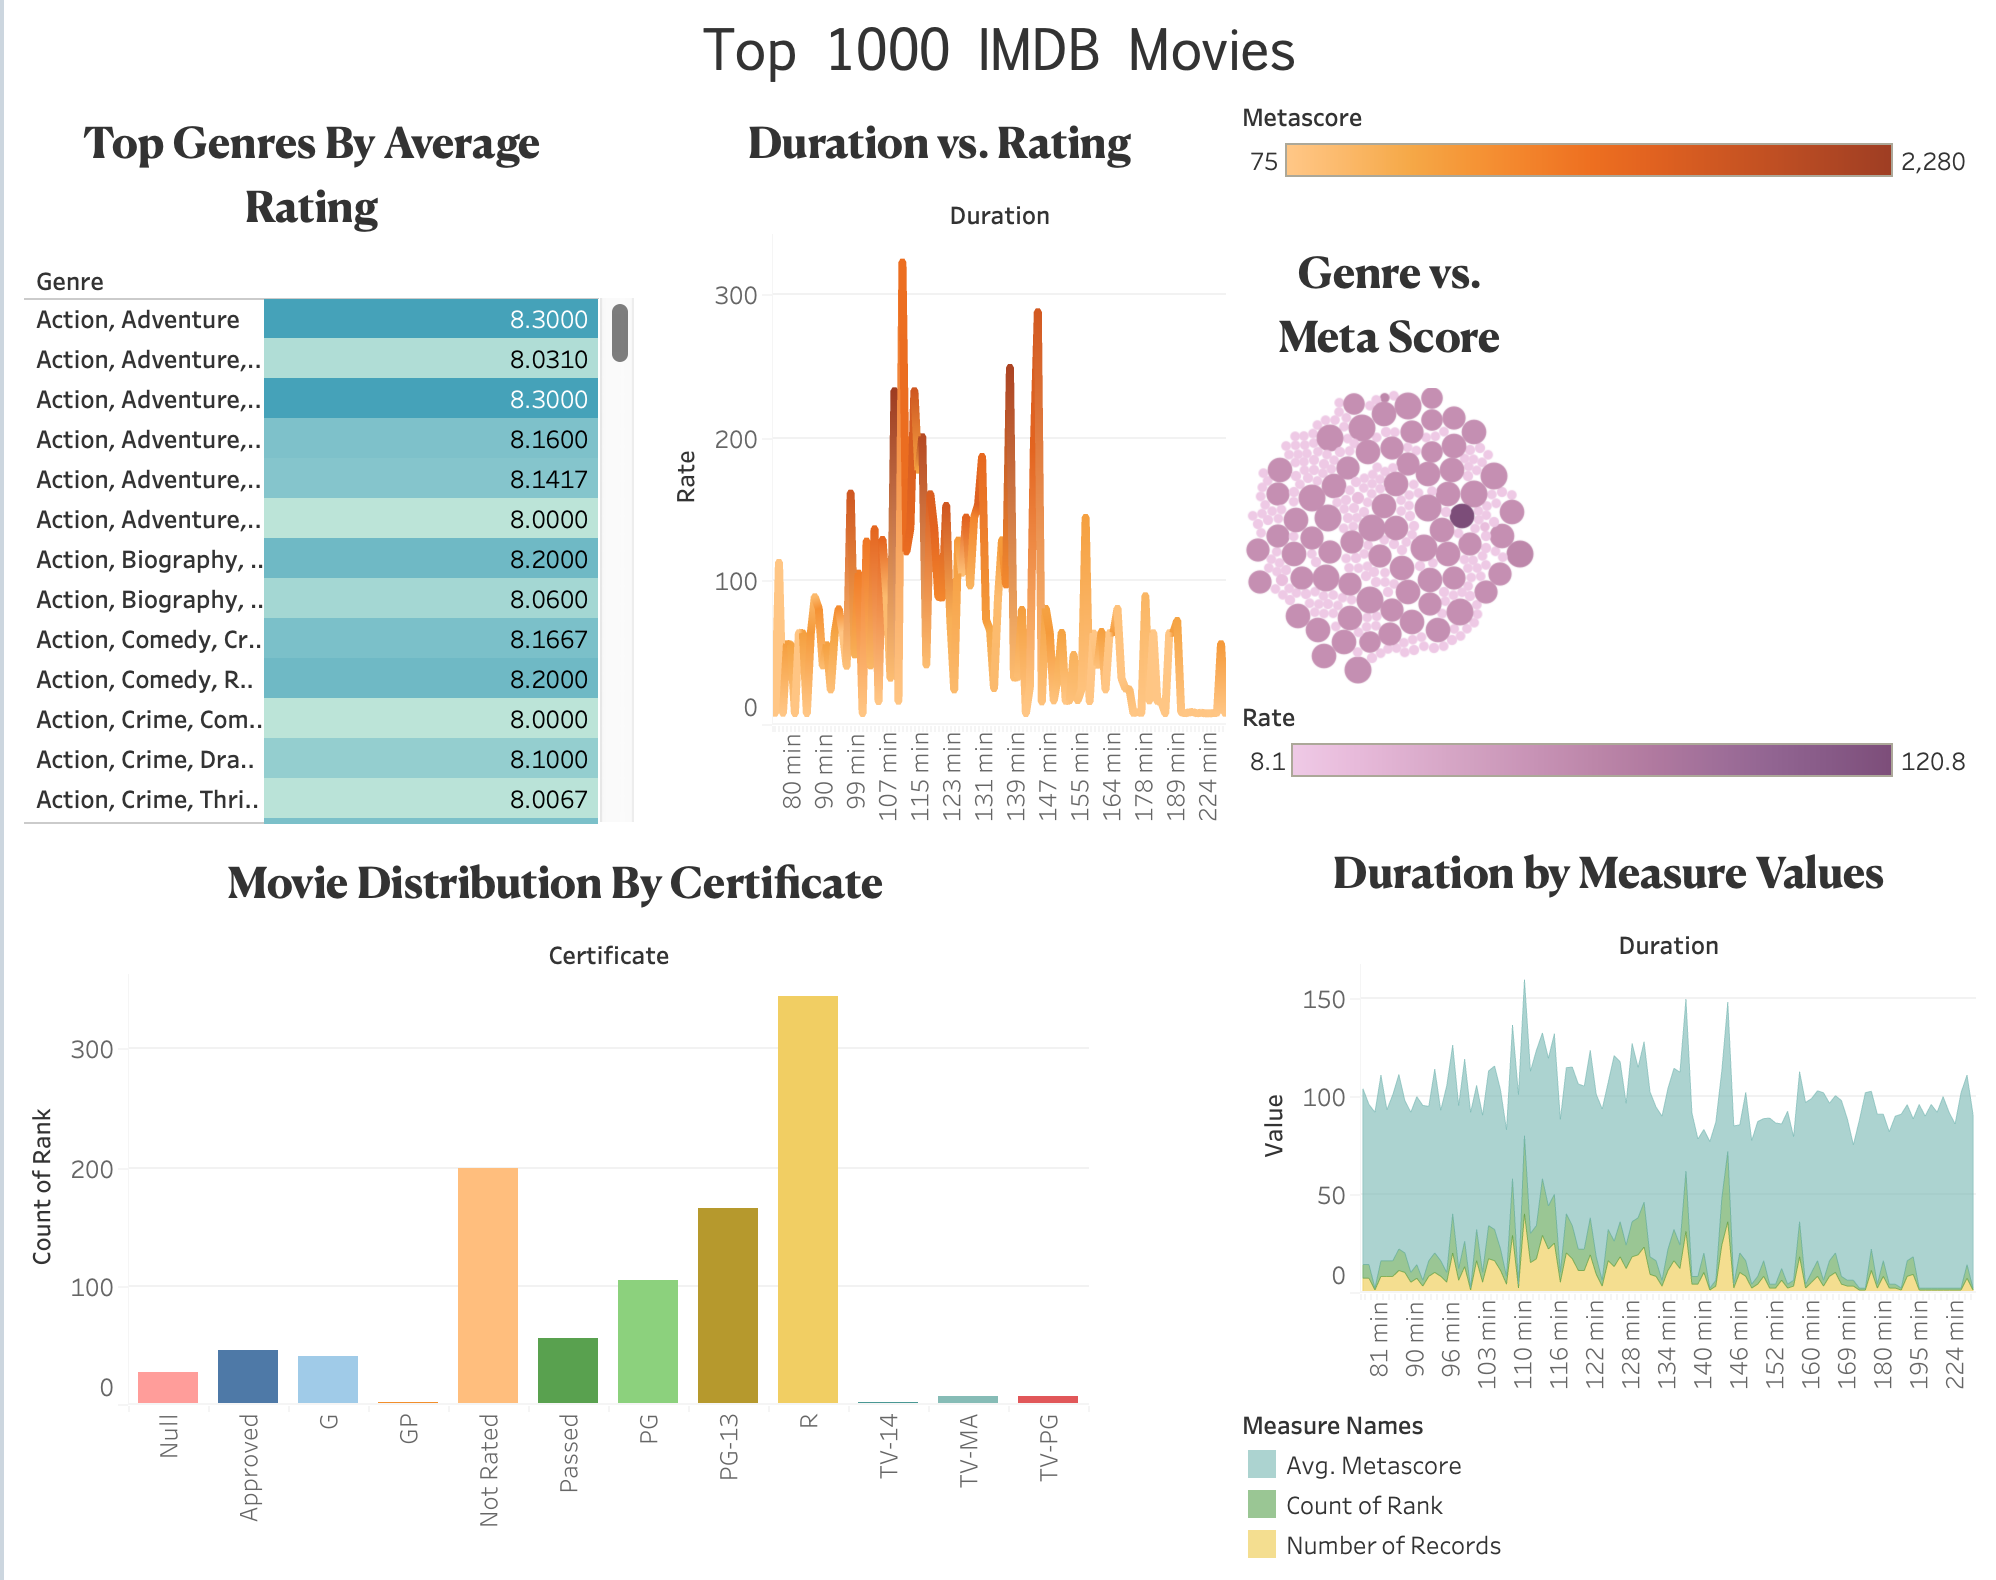

The page's visual inventory and layout, read from the dashboard file:
{"tool":"tableau","page":{"name":"Dashboard 1","canvas":[1000,800],"ordinal":0},"visuals":[{"type":"title","box":[8,8,984,44]},{"type":"worksheet","title":"Sheet 1","mark":"Square","rows":["Genre"],"box":[8,52,315.2,370]},{"type":"worksheet","title":"Sheet 3","mark":"Line","rows":["Rate"],"cols":["Duration"],"box":[323.2,52,293.8,370]},{"type":"legend","title":"Sheet 3","param":"[federated.0xds5v91anps3m18dt1mb01ck0g3].[sum:Metascore:qk]","box":[617,52,375,65]},{"type":"worksheet","title":"Sheet 4","mark":"Circle","box":[617,117,375,235]},{"type":"legend","title":"Sheet 4","param":"[federated.0xds5v91anps3m18dt1mb01ck0g3].[sum:Rate:qk]","box":[617,352,375,65]},{"type":"worksheet","title":"Sheet 5","mark":"Area","cols":["Duration"],"box":[617,417,375,289]},{"type":"worksheet","title":"Sheet 2","mark":"Automatic","rows":["F1"],"cols":["Certificate"],"box":[8,422,609,370]},{"type":"legend","title":"Sheet 5","param":"[federated.0xds5v91anps3m18dt1mb01ck0g3].[:Measure Names]","box":[617,706,375,86]}]}

Visuals, with their boxes in screenshot pixels (x1, y1, x2, y2), scaled from the page's 1000x800 canvas onto the 1996x1580 screenshot:
title: crop(16, 16, 1980, 103)
"Sheet 1" worksheet (Square marks): crop(16, 103, 645, 833)
"Sheet 3" worksheet (Line marks): crop(645, 103, 1232, 833)
"Sheet 3" legend: crop(1232, 103, 1980, 231)
"Sheet 4" worksheet (Circle marks): crop(1232, 231, 1980, 695)
"Sheet 4" legend: crop(1232, 695, 1980, 824)
"Sheet 5" worksheet (Area marks): crop(1232, 824, 1980, 1394)
"Sheet 2" worksheet: crop(16, 833, 1232, 1564)
"Sheet 5" legend: crop(1232, 1394, 1980, 1564)
